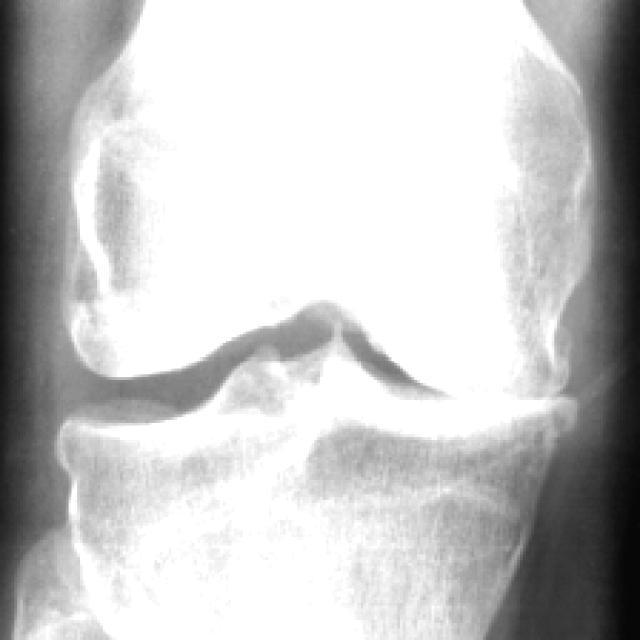femur: (67, 0, 595, 401)
tibia: (53, 341, 578, 640)
